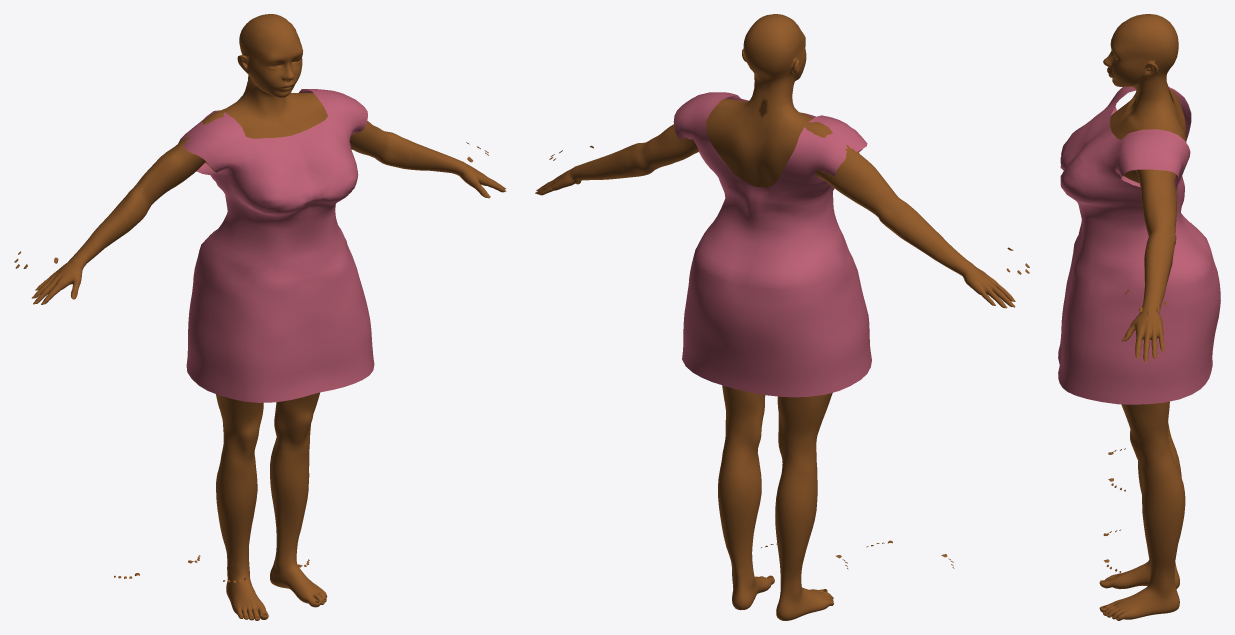
File: dress7.glb
The picture shows the model from 3 angles, left to right: view 1: azimuth 30°, elevation 25°; view 2: azimuth 150°, elevation 25°; view 3: azimuth 270°, elevation 25°; orthographic projection.
Parts seen in each view (by area): view 1: Jennifer.F_Dress_01, Body.003; view 2: Jennifer.F_Dress_01, Body.003; view 3: Jennifer.F_Dress_01, Body.003.
Part boxes in pixels (x1,y1,x2,y2): Jennifer.F_Dress_01: (178,89,374,402); Body.003: (34,14,505,620); Jennifer.F_Dress_01: (673,92,871,397); Body.003: (536,14,1013,620); Jennifer.F_Dress_01: (1058,86,1220,404); Body.003: (1099,14,1186,620).
Bounding box in the file's own units: 1.63 × 1.85 × 0.4669.
